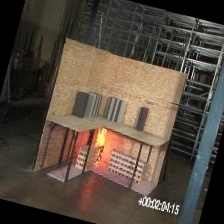fire: (89, 121, 115, 158)
